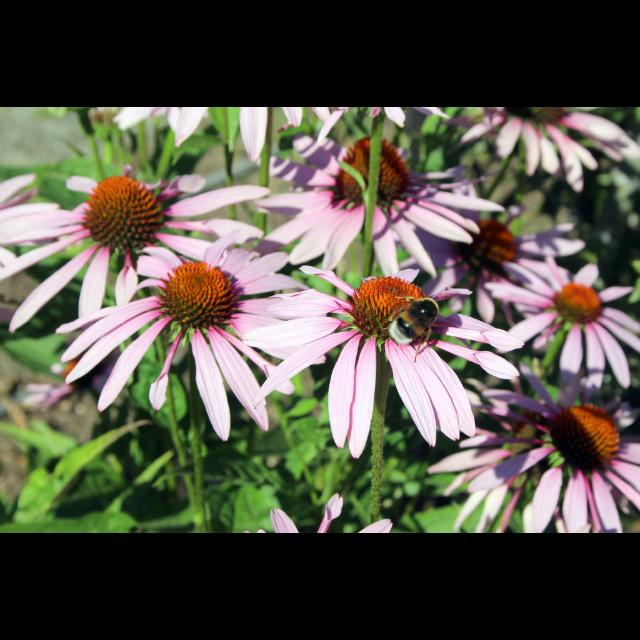Flower: (1, 107, 640, 533), (247, 255, 515, 458)
